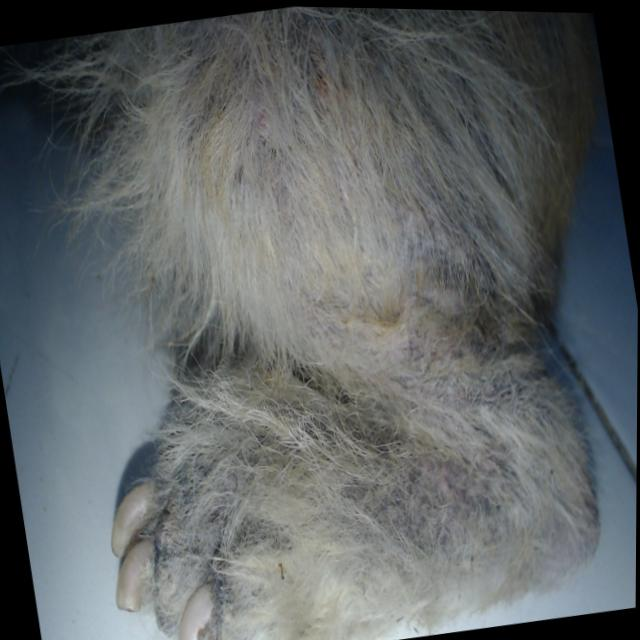demodicosis: (368, 415, 528, 559), (209, 523, 272, 588), (152, 504, 186, 562)
